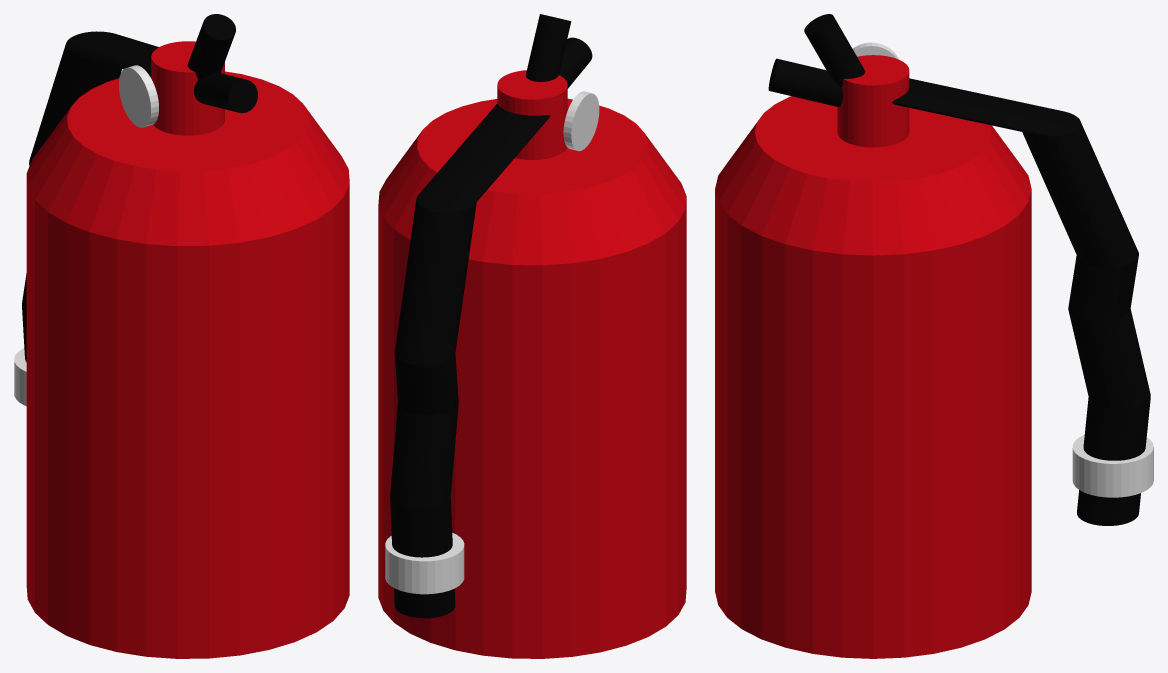
File: extintor 1.fbx
3 views of the same model, side by side, from view 1: azimuth 30°, elevation 25°; view 2: azimuth 150°, elevation 25°; view 3: azimuth 270°, elevation 25° (orthographic). The views are drawn at different scales.
Parts seen in each view (by area): view 1: Cylinder, Cylinder.003, Cylinder.002, Cylinder.001, Cylinder.005, Cylinder.004; view 2: Cylinder, Cylinder.003, Cylinder.004, Cylinder.002, Cylinder.005, Cylinder.001; view 3: Cylinder, Cylinder.003, Cylinder.004, Cylinder.001, Cylinder.002.
Part boxes in pixels (left/top/right/bottom): Cylinder: left=26, top=41, right=349, bottom=658; Cylinder.003: left=22, top=31, right=158, bottom=361; Cylinder.002: left=187, top=14, right=235, bottom=79; Cylinder.001: left=194, top=72, right=257, bottom=113; Cylinder.005: left=119, top=65, right=158, bottom=127; Cylinder.004: left=14, top=348, right=26, bottom=406; Cylinder: left=378, top=70, right=686, bottom=658; Cylinder.003: left=390, top=103, right=550, bottom=618; Cylinder.004: left=385, top=533, right=464, bottom=594; Cylinder.002: left=525, top=14, right=571, bottom=81; Cylinder.005: left=563, top=91, right=599, bottom=151; Cylinder.001: left=559, top=37, right=592, bottom=88; Cylinder: left=715, top=55, right=1031, bottom=658; Cylinder.003: left=892, top=78, right=1150, bottom=525; Cylinder.004: left=1072, top=435, right=1153, bottom=497; Cylinder.001: left=768, top=58, right=843, bottom=107; Cylinder.002: left=804, top=14, right=865, bottom=87.
Bounding box in the file's own units: 25.97 × 52.23 × 36.
